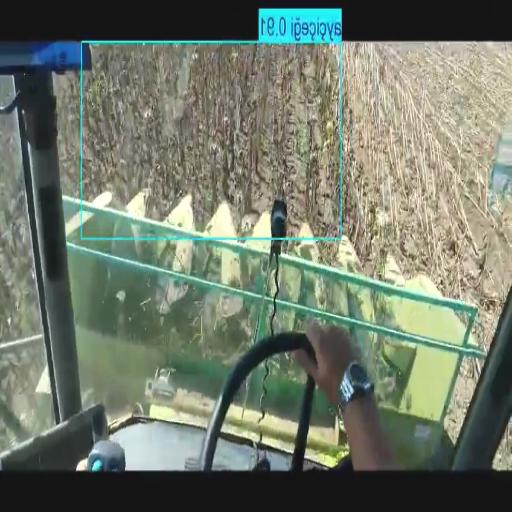ayc: (94, 46, 339, 208)
